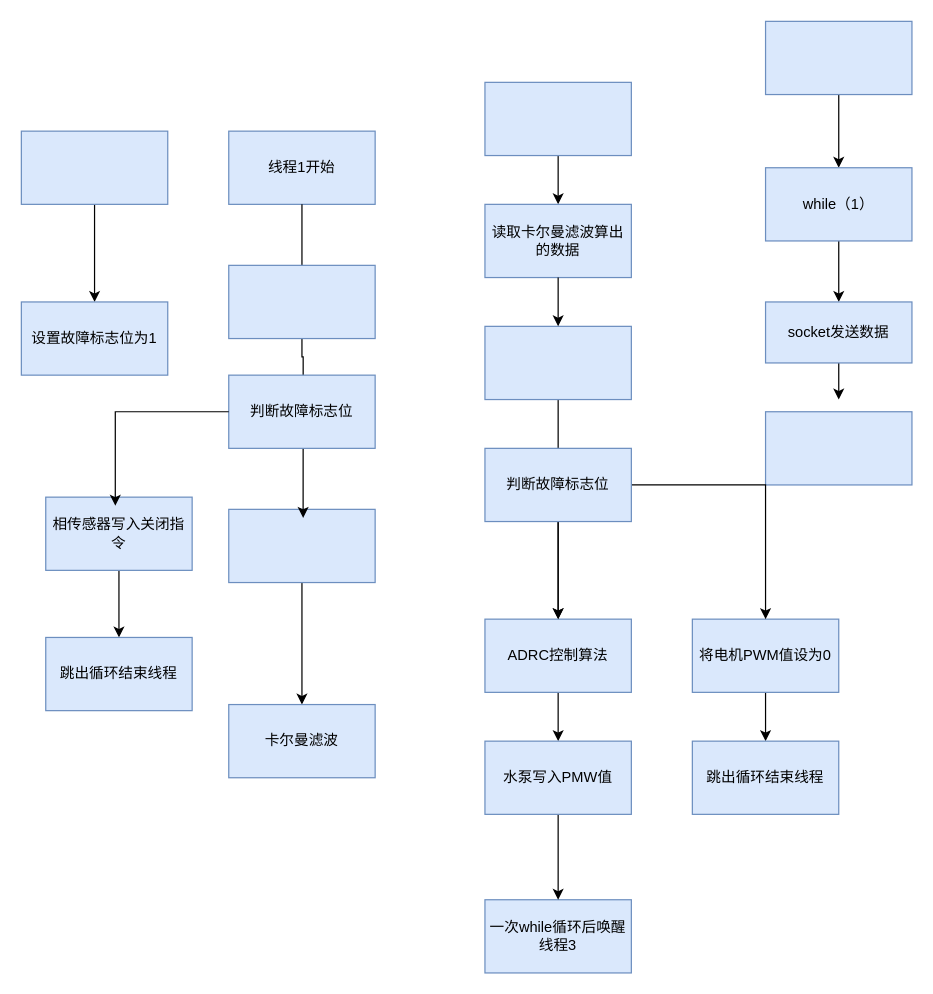
Some shapes in this 933 by 994 pixel diagram are drawn without their labels. Each missing label, with the centre of its shape:
wait()等待唤醒: the point at 838,448
while(1): the point at 301,301
信号处理函数: the point at 94,167
线程2开始: the point at 557,118
线程3开始: the point at 838,57
读取传感器数据: the point at 301,545
读取编码器数据，液体温度数据: the point at 557,362
